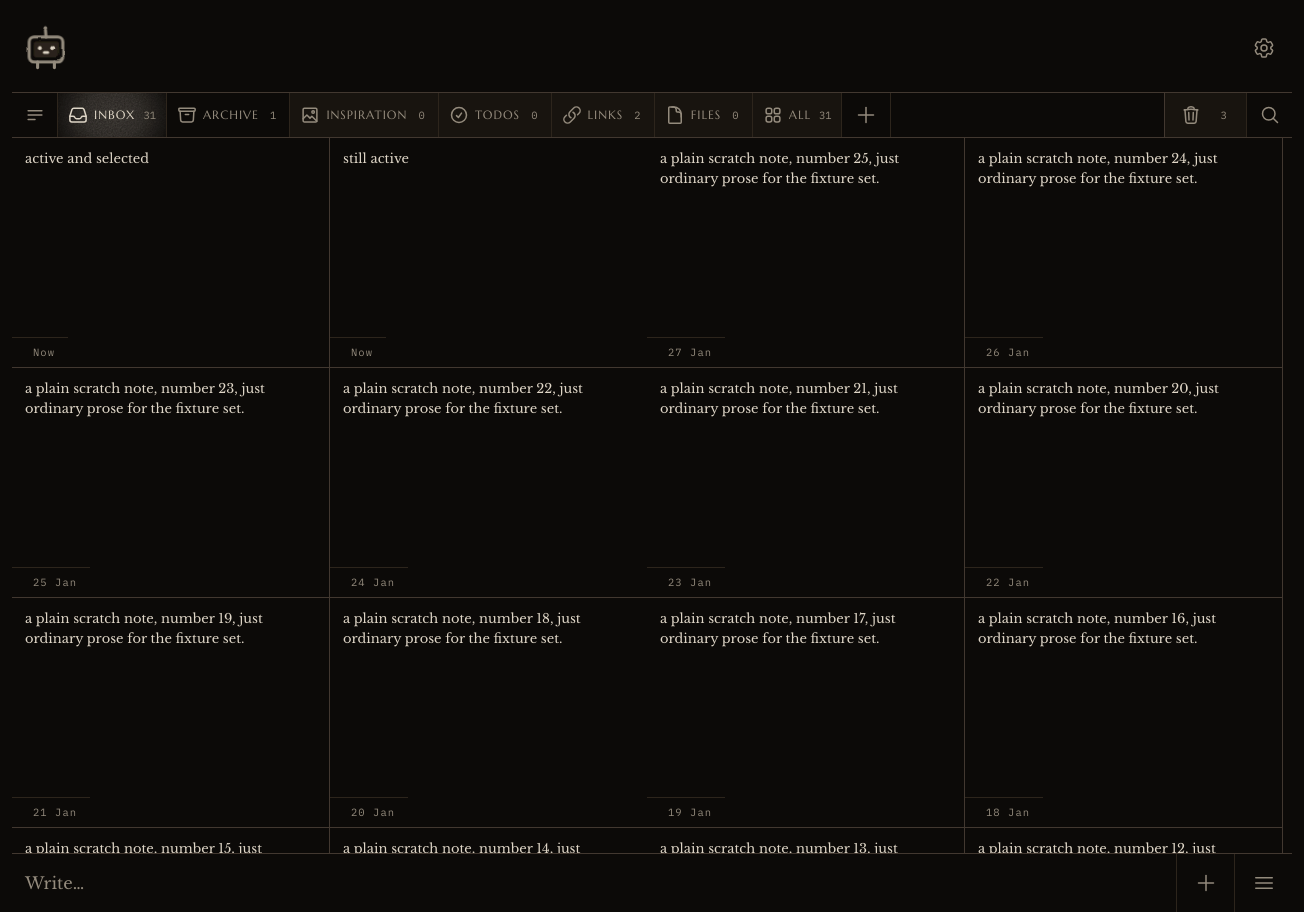
Scenario: dialog callers in App › does not open the destroy dialog from a non-trash selection's Delete
Step 1. Right-click the button "active and selected Now" → (87, 158), box [12, 138, 330, 368]
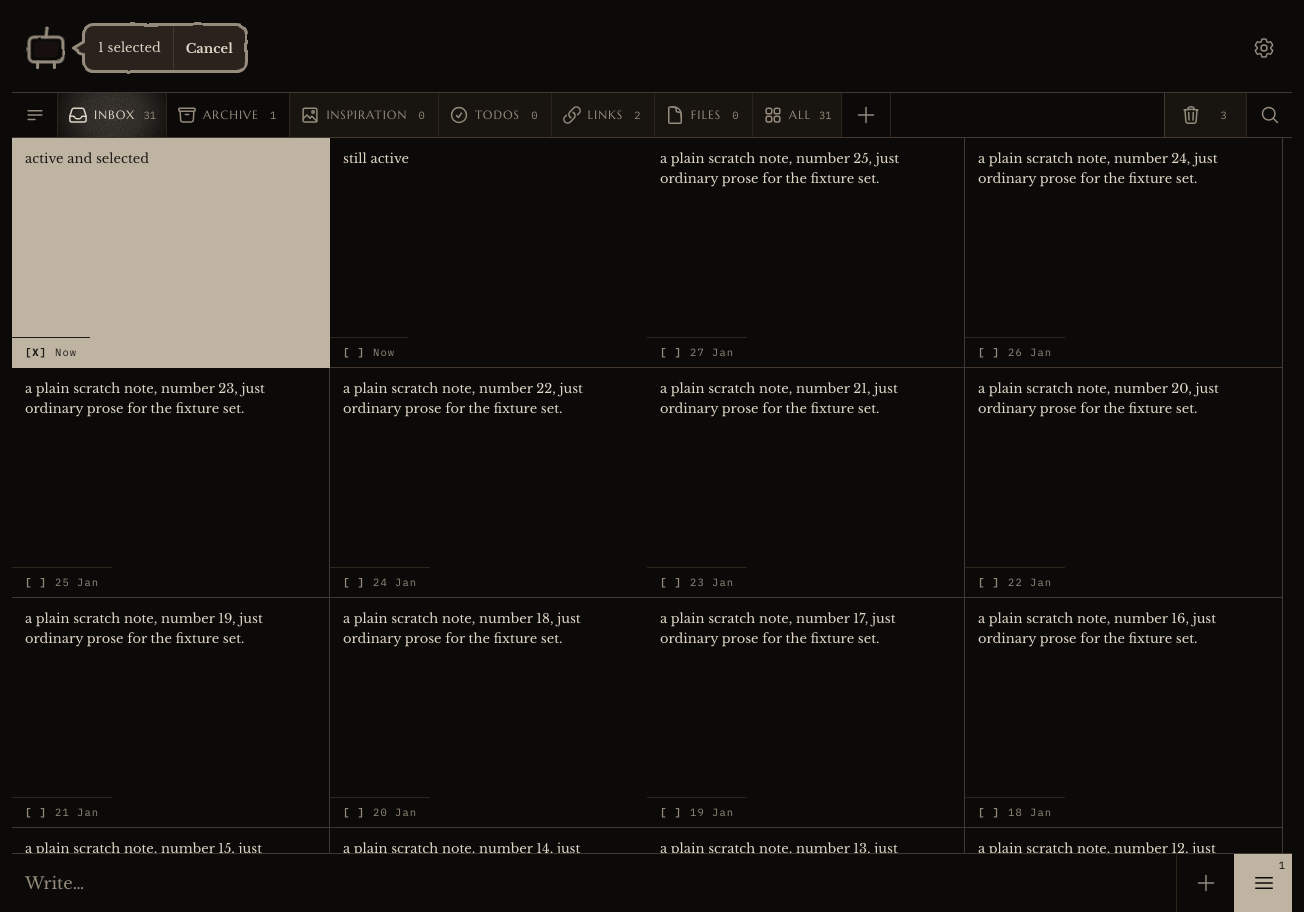
Result: the text "1 selected" is shown at [98, 40, 161, 56]
Step 2. Click the button "1" → (1263, 883), box [1234, 854, 1292, 911]
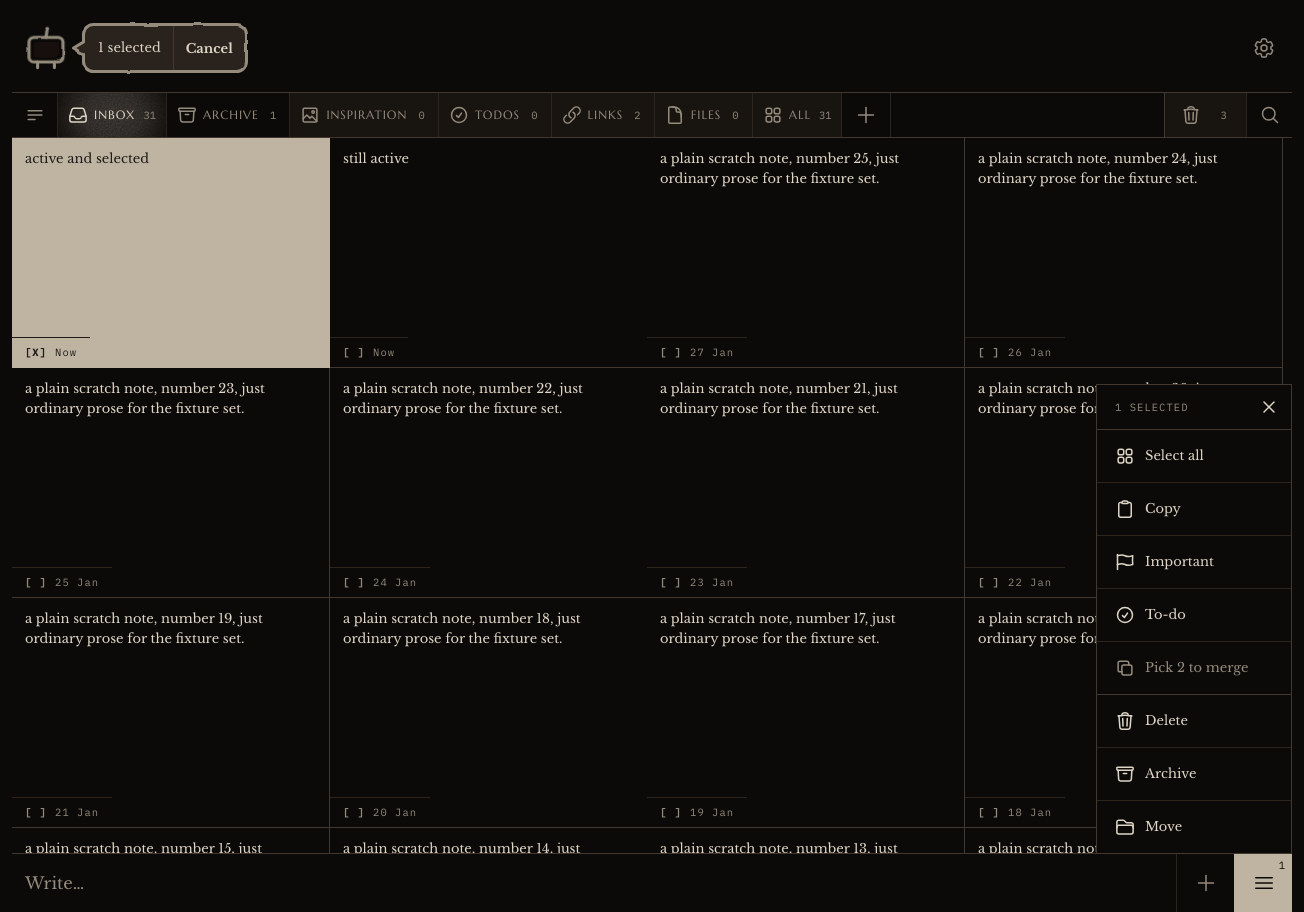
Step 3. Click the button "Delete" → (1194, 720), box [1097, 694, 1291, 747]
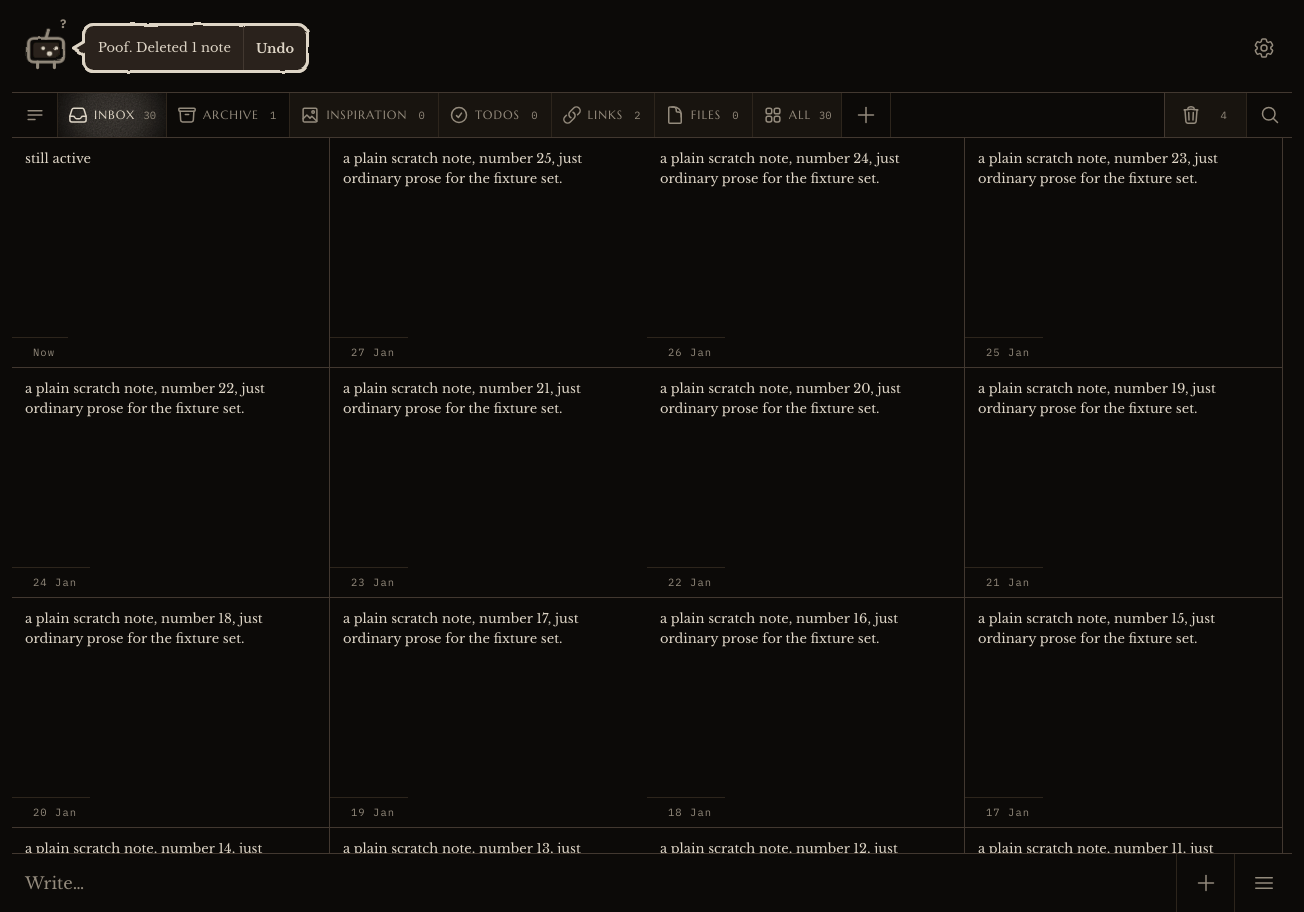
Result: the text "1 selected" is gone
